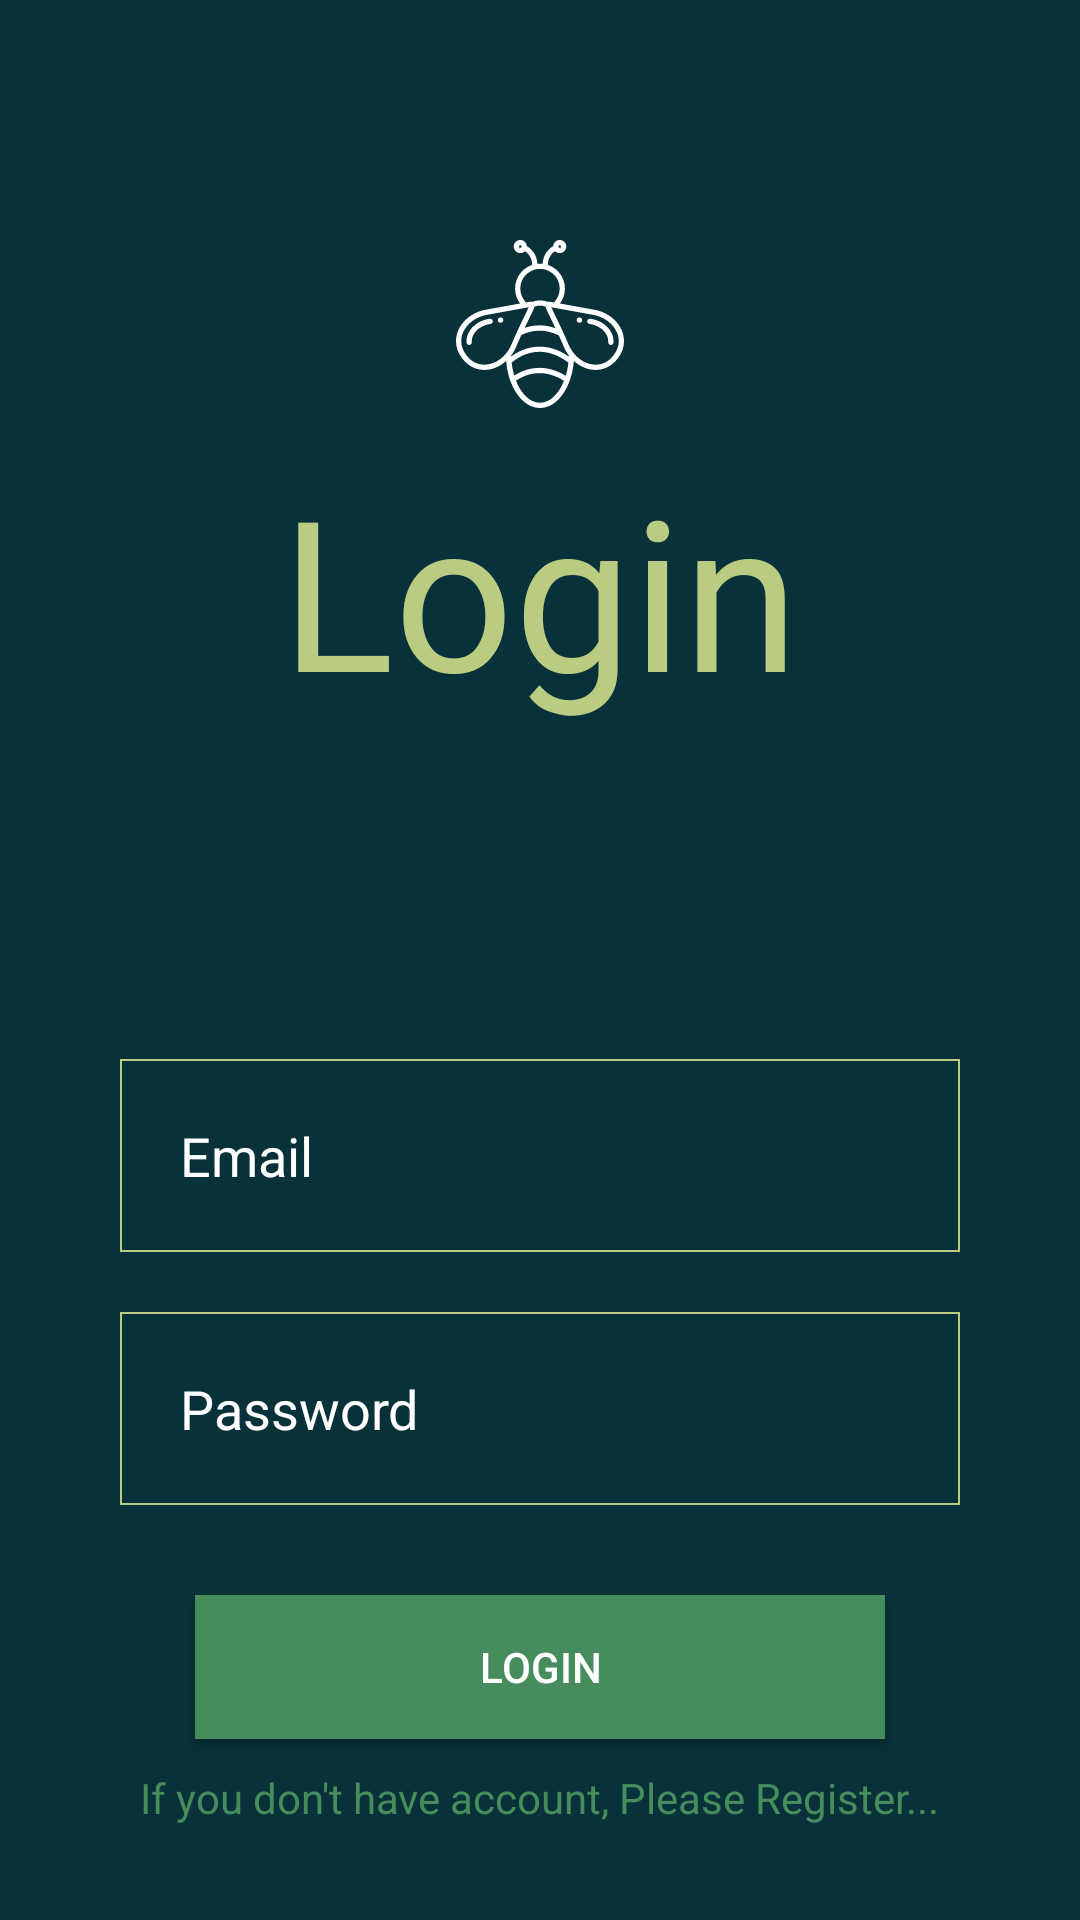

Icon bounding boxes for this 1080×1920 phone screenshot, format Rect(x1, y1, x2, y2):
noun bee: Rect(456, 240, 624, 408)
